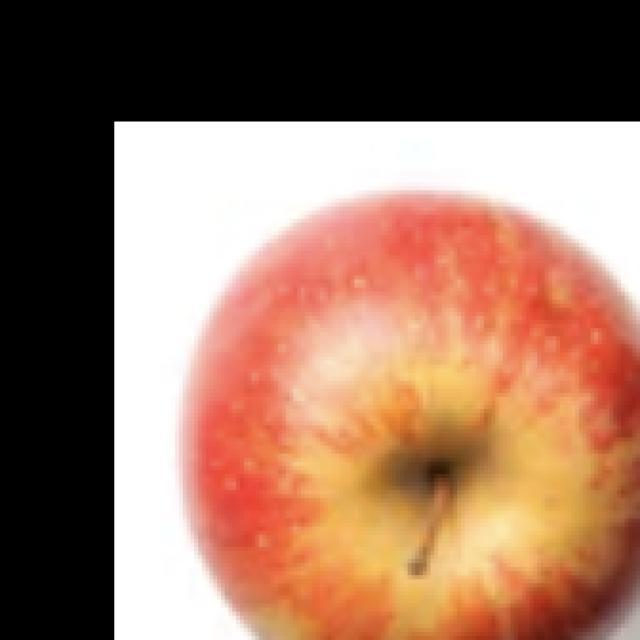Fresh Apple: (170, 180, 640, 640)
